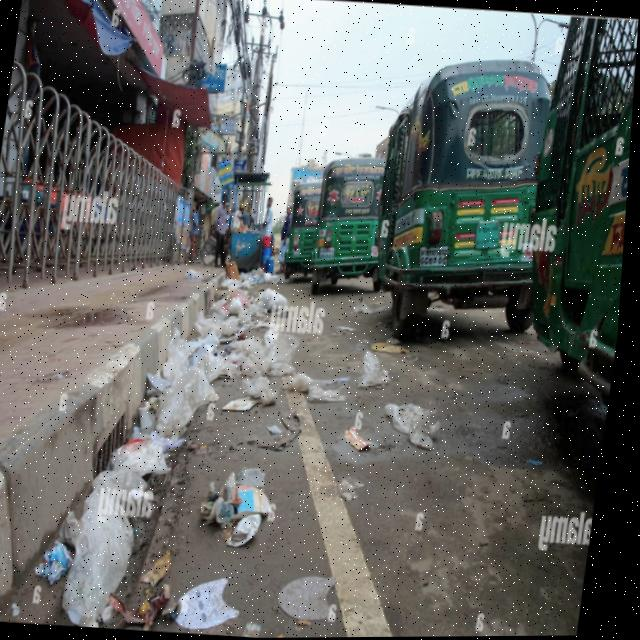cng: (359, 88, 615, 347), (315, 142, 398, 306)
